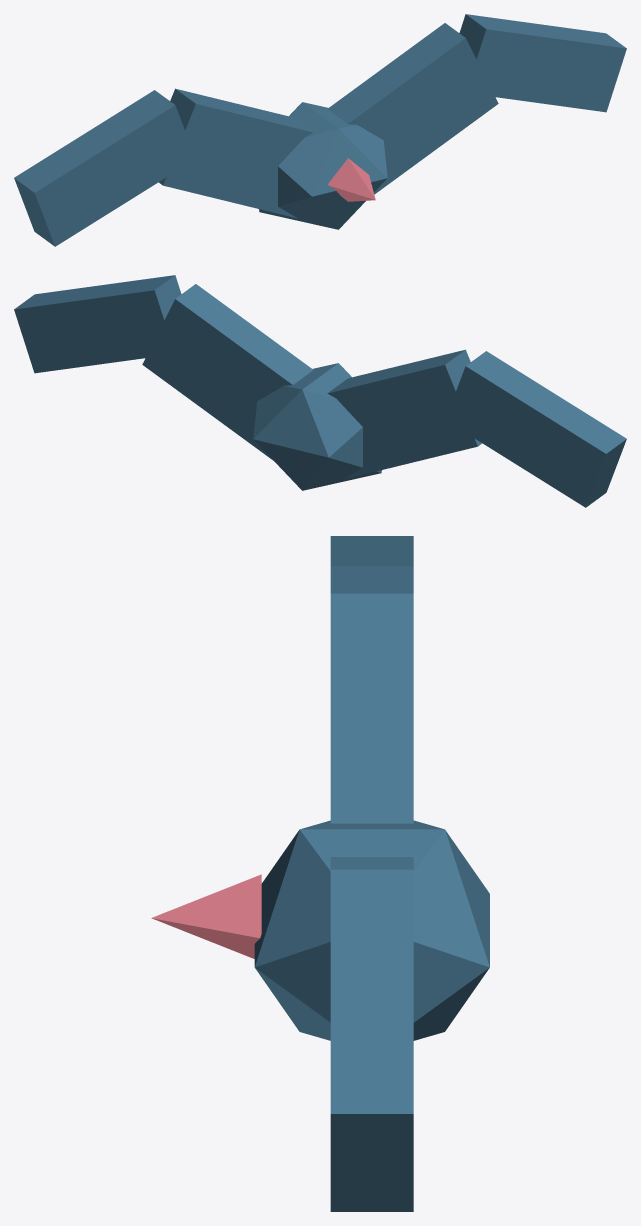
Rendered from bird.glb.
3 renders of one model, top to bottom at view 1: azimuth 30°, elevation 25°; view 2: azimuth 150°, elevation 25°; view 3: azimuth 270°, elevation 25°, orthographic. The views are drawn at different scales.
Parts seen in each view (by area): view 1: Bird; view 2: Bird; view 3: Bird.
Boxes of the visible parts, x1,y1,x2,y2 form: Bird: (14, 14, 626, 246); Bird: (14, 275, 626, 507); Bird: (151, 536, 489, 1211).
Bounding box in the file's own units: 1.98 × 0.5011 × 0.4901.
